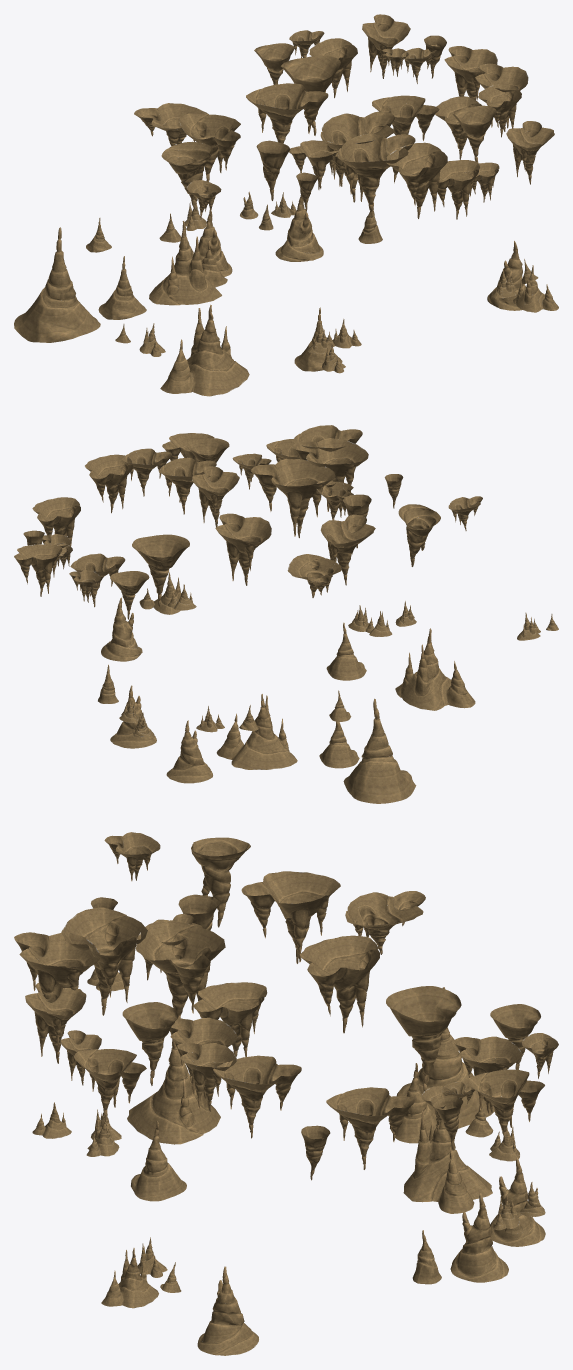
File: Stalactites.fbx
3 views of the same model, one above another, from view 1: azimuth 30°, elevation 25°; view 2: azimuth 150°, elevation 25°; view 3: azimuth 270°, elevation 25° (orthographic). The views are drawn at different scales.
Parts seen in each view (by area): view 1: T502_Stalactites_01_C_fr2_s04rp2B07AB3ADB0_fb2B0BC9D3140_id0, Object003, Object017, Object004, Object002, Object015, Object018, Object016, Object014, Object021, Object023, Object019 (+12 smaller); view 2: T502_Stalactites_01_C_fr2_s04rp2B07AB3ADB0_fb2B0BC9D3140_id0, Object003, Object004, Object017, Object015, Object002, Object021, Object018, Object016, Object023, Object014, Object024 (+11 smaller); view 3: T502_Stalactites_01_C_fr2_s04rp2B07AB3ADB0_fb2B0BC9D3140_id0, Object017, Object015, Object004, Object021, Object002, Object016, Object018, Object019, Object014, Object023, Object003 (+11 smaller).
Part boxes in pixels (<box>): T502_Stalactites_01_C_fr2_s04rp2B07AB3ADB0_fb2B0BC9D3140_id0: <box>256,111,479,219</box>; Object003: <box>14,227,146,342</box>; Object017: <box>254,30,357,135</box>; Object004: <box>149,210,232,305</box>; Object002: <box>160,304,249,396</box>; Object015: <box>134,103,240,181</box>; Object018: <box>362,14,446,83</box>; Object016: <box>246,83,328,143</box>; Object014: <box>161,141,221,218</box>; Object021: <box>475,63,528,137</box>; Object023: <box>435,96,496,162</box>; Object019: <box>444,46,509,128</box>; T502_Stalactites_01_C_fr2_s04rp2B07AB3ADB0_fb2B0BC9D3140_id0: <box>251,425,371,548</box>; Object003: <box>319,698,416,803</box>; Object004: <box>166,694,297,783</box>; Object017: <box>69,534,189,619</box>; Object015: <box>287,514,375,597</box>; Object002: <box>395,628,475,710</box>; Object021: <box>85,448,171,513</box>; Object018: <box>14,530,72,596</box>; Object016: <box>215,513,271,585</box>; Object023: <box>158,438,229,514</box>; Object014: <box>398,496,482,566</box>; Object024: <box>192,466,239,527</box>; T502_Stalactites_01_C_fr2_s04rp2B07AB3ADB0_fb2B0BC9D3140_id0: <box>14,894,225,1063</box>; Object017: <box>386,986,558,1112</box>; Object015: <box>241,871,425,963</box>; Object004: <box>403,1110,545,1246</box>; Object021: <box>177,1042,301,1138</box>; Object002: <box>127,1039,220,1144</box>; Object016: <box>300,935,379,1033</box>; Object018: <box>421,1069,544,1150</box>; Object019: <box>301,1087,414,1180</box>; Object014: <box>104,832,250,927</box>; Object023: <box>122,1002,237,1098</box>; Object003: <box>390,987,494,1143</box>.
Bounding box in the file's own units: 11.94 × 5.71 × 9.21.
